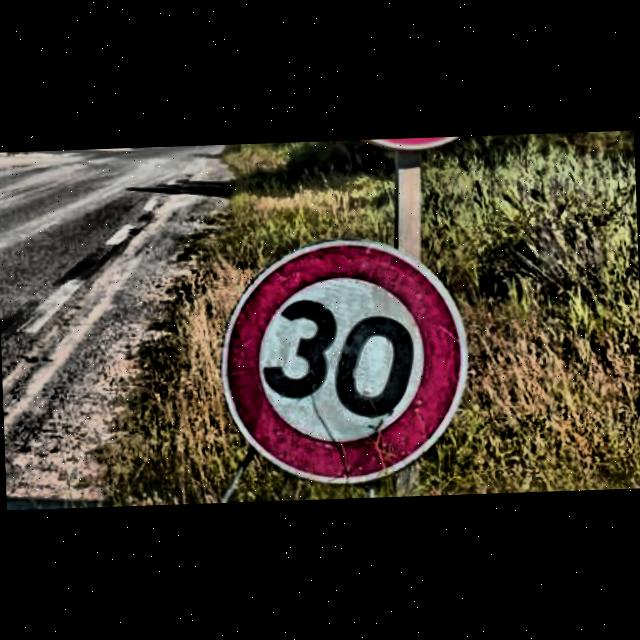speed_30: (217, 233, 472, 489)
